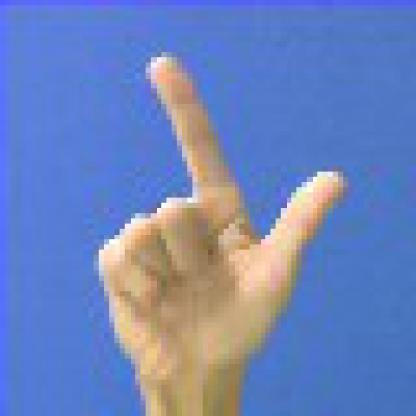seven: (71, 35, 353, 413)
